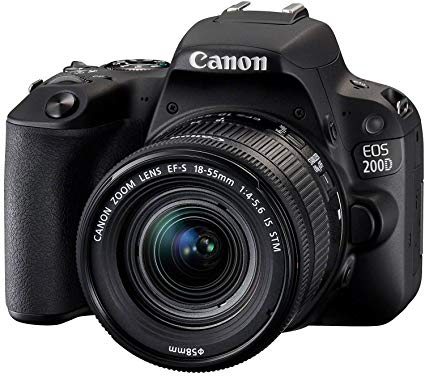kamera: (1, 2, 425, 374)
